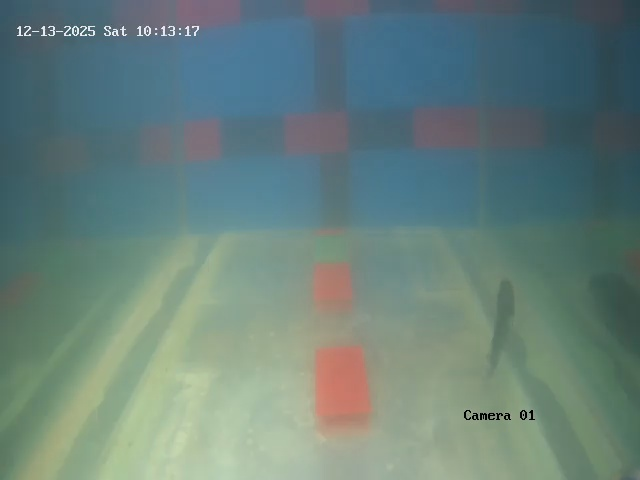fish: (480, 276, 519, 396)
